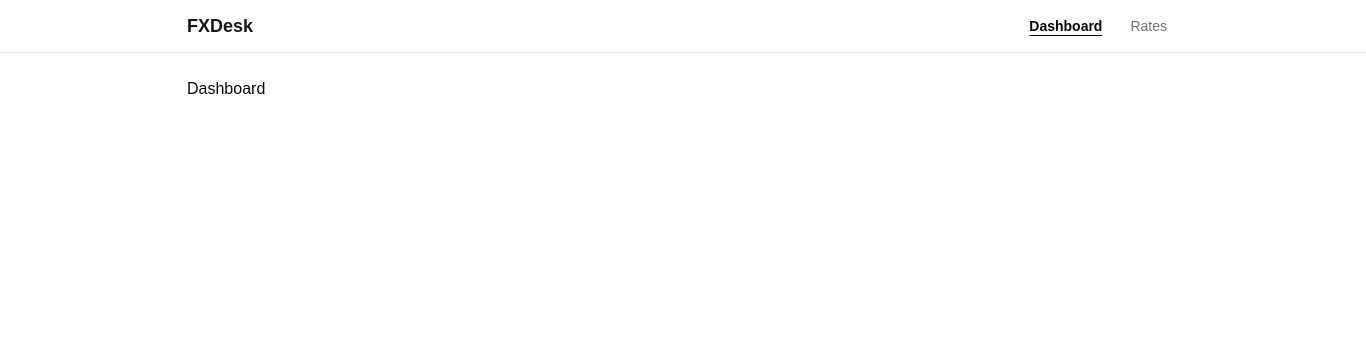
Test: app routes › clicking Rates navigates there and marks the link as current
The image size is (1366, 360).
Click the link "Rates".
click(1149, 26)  # box [1130, 18, 1167, 34]
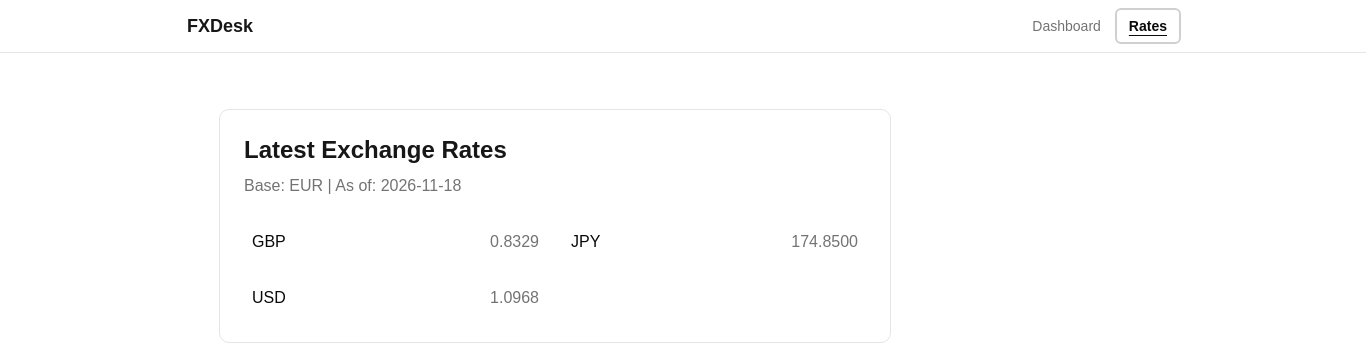
Now the heading "Latest Exchange Rates" is shown, box [244, 136, 507, 163]
